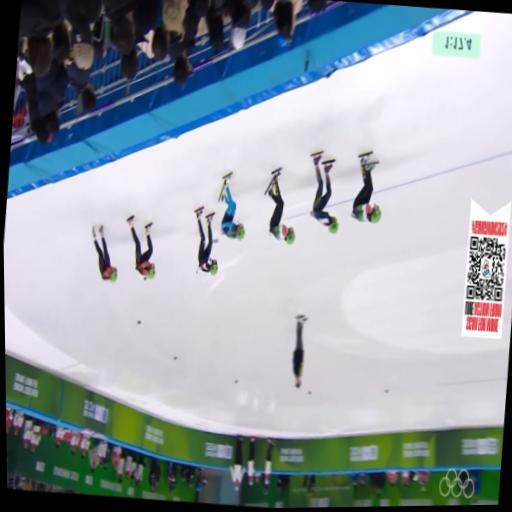Skater: (266, 169, 295, 244), (311, 152, 338, 232), (352, 152, 381, 223), (127, 215, 155, 279), (219, 173, 245, 239), (195, 207, 218, 274), (92, 225, 117, 280)
